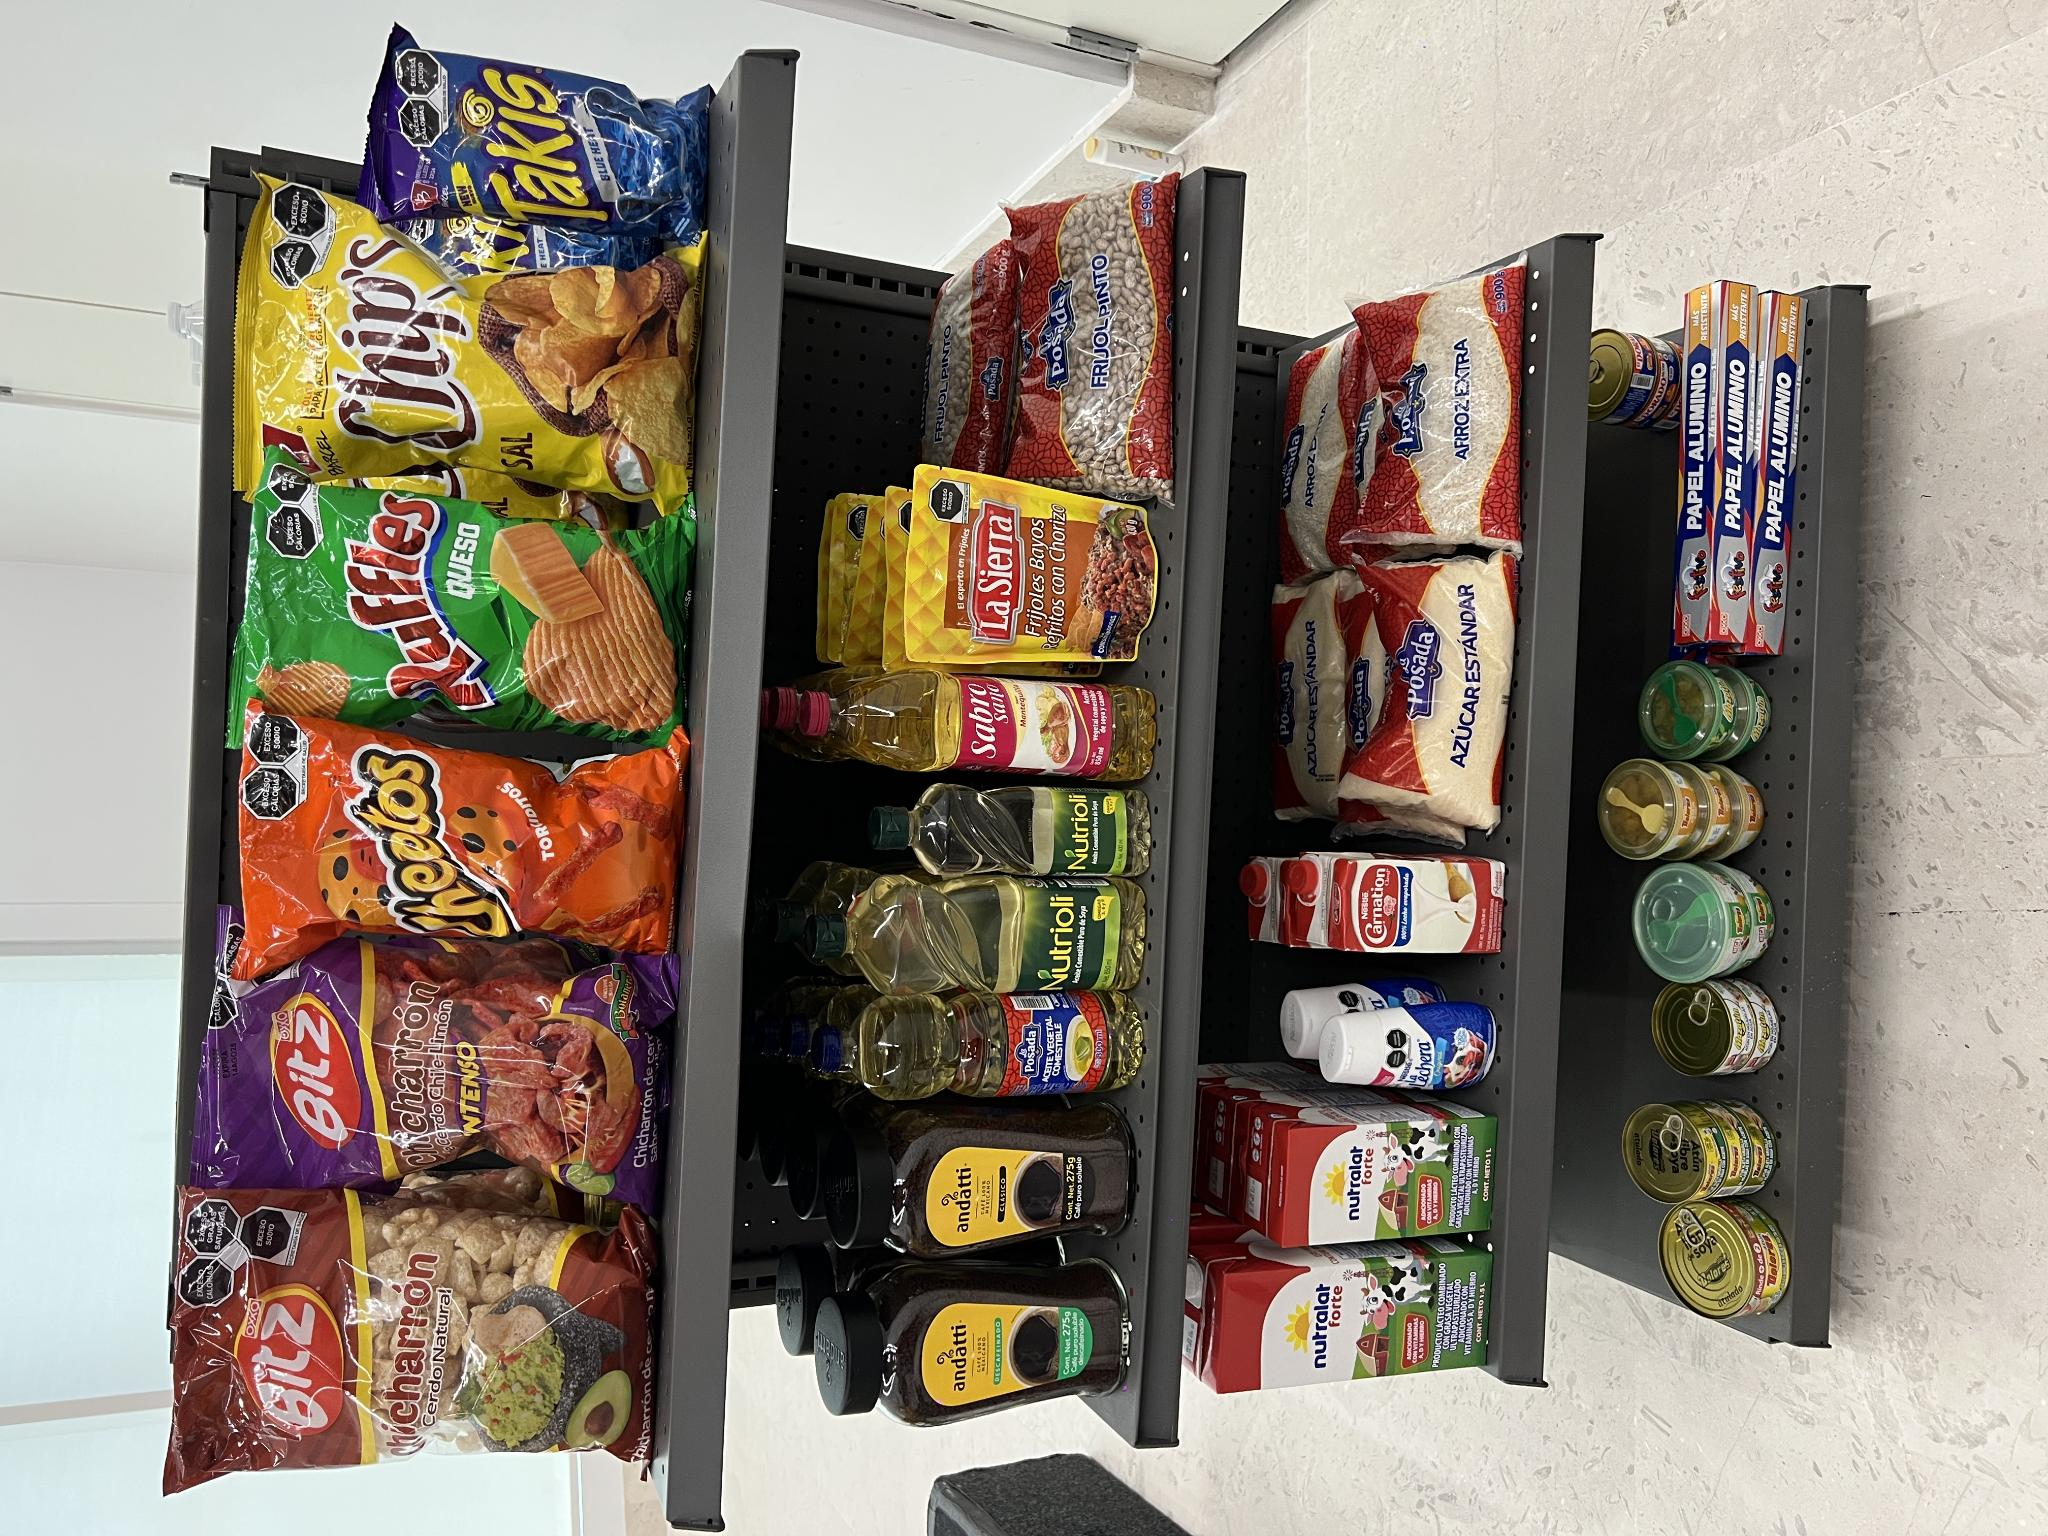aceite_nutrioli_400ml: (656, 870, 756, 1149)
aceite_nutrioli_850ml: (535, 807, 658, 1154)
aceite_posada: (439, 816, 547, 1144)
aceite_saborsano: (758, 803, 876, 1158)
andatti: (119, 823, 274, 1125), (279, 834, 429, 1128)
arroz_laposada: (997, 1346, 1274, 1526)
azucar_laposada: (711, 1336, 976, 1521)
carnation: (581, 1346, 674, 1507)
cheetos: (577, 244, 830, 684)
chicharron_bitz_intenso: (335, 194, 601, 665)
chicharron_bitz_natural: (61, 181, 335, 660)
chips_sal: (1034, 242, 1353, 703)
frijol_laposada: (1045, 1005, 1356, 1181)
frijol_lasierra: (877, 913, 1068, 1154)
lalechera: (445, 1326, 531, 1504)
leche_nutralatforte: (144, 1217, 281, 1494), (290, 1279, 419, 1496)
ruffles: (797, 234, 1079, 689)
takis: (1295, 373, 1495, 713)
